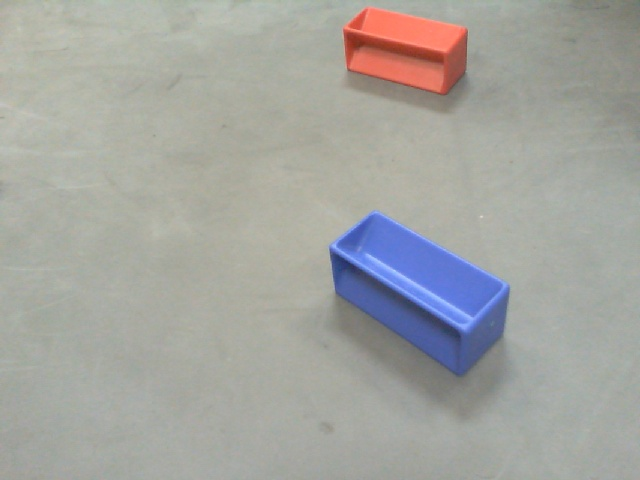BlueSample: (327, 208, 511, 376)
RedSample: (342, 2, 469, 96)
